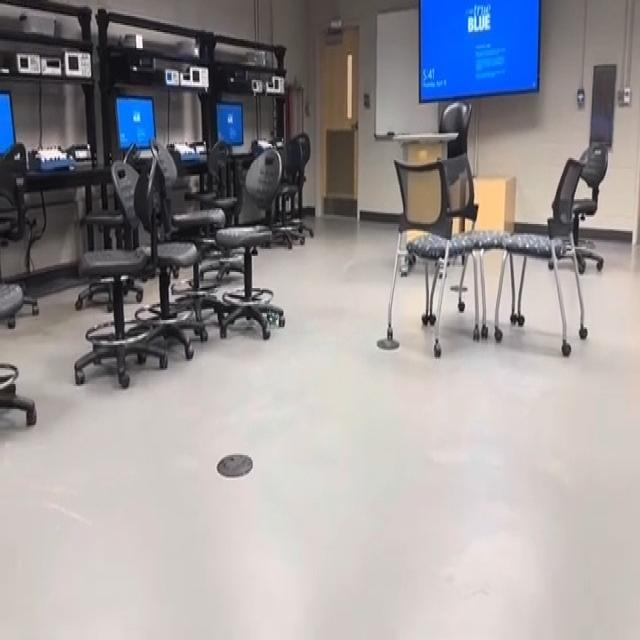drone: (261, 290, 283, 339)
